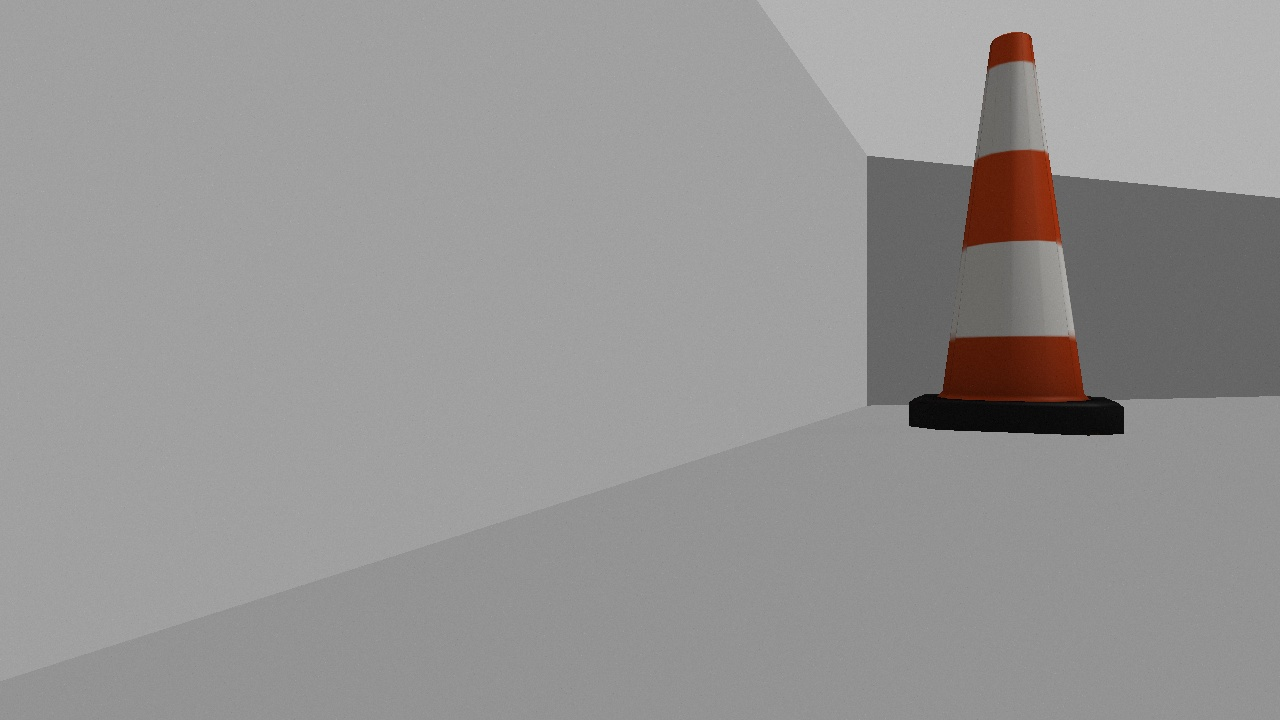barricade: (907, 31, 1124, 434)
